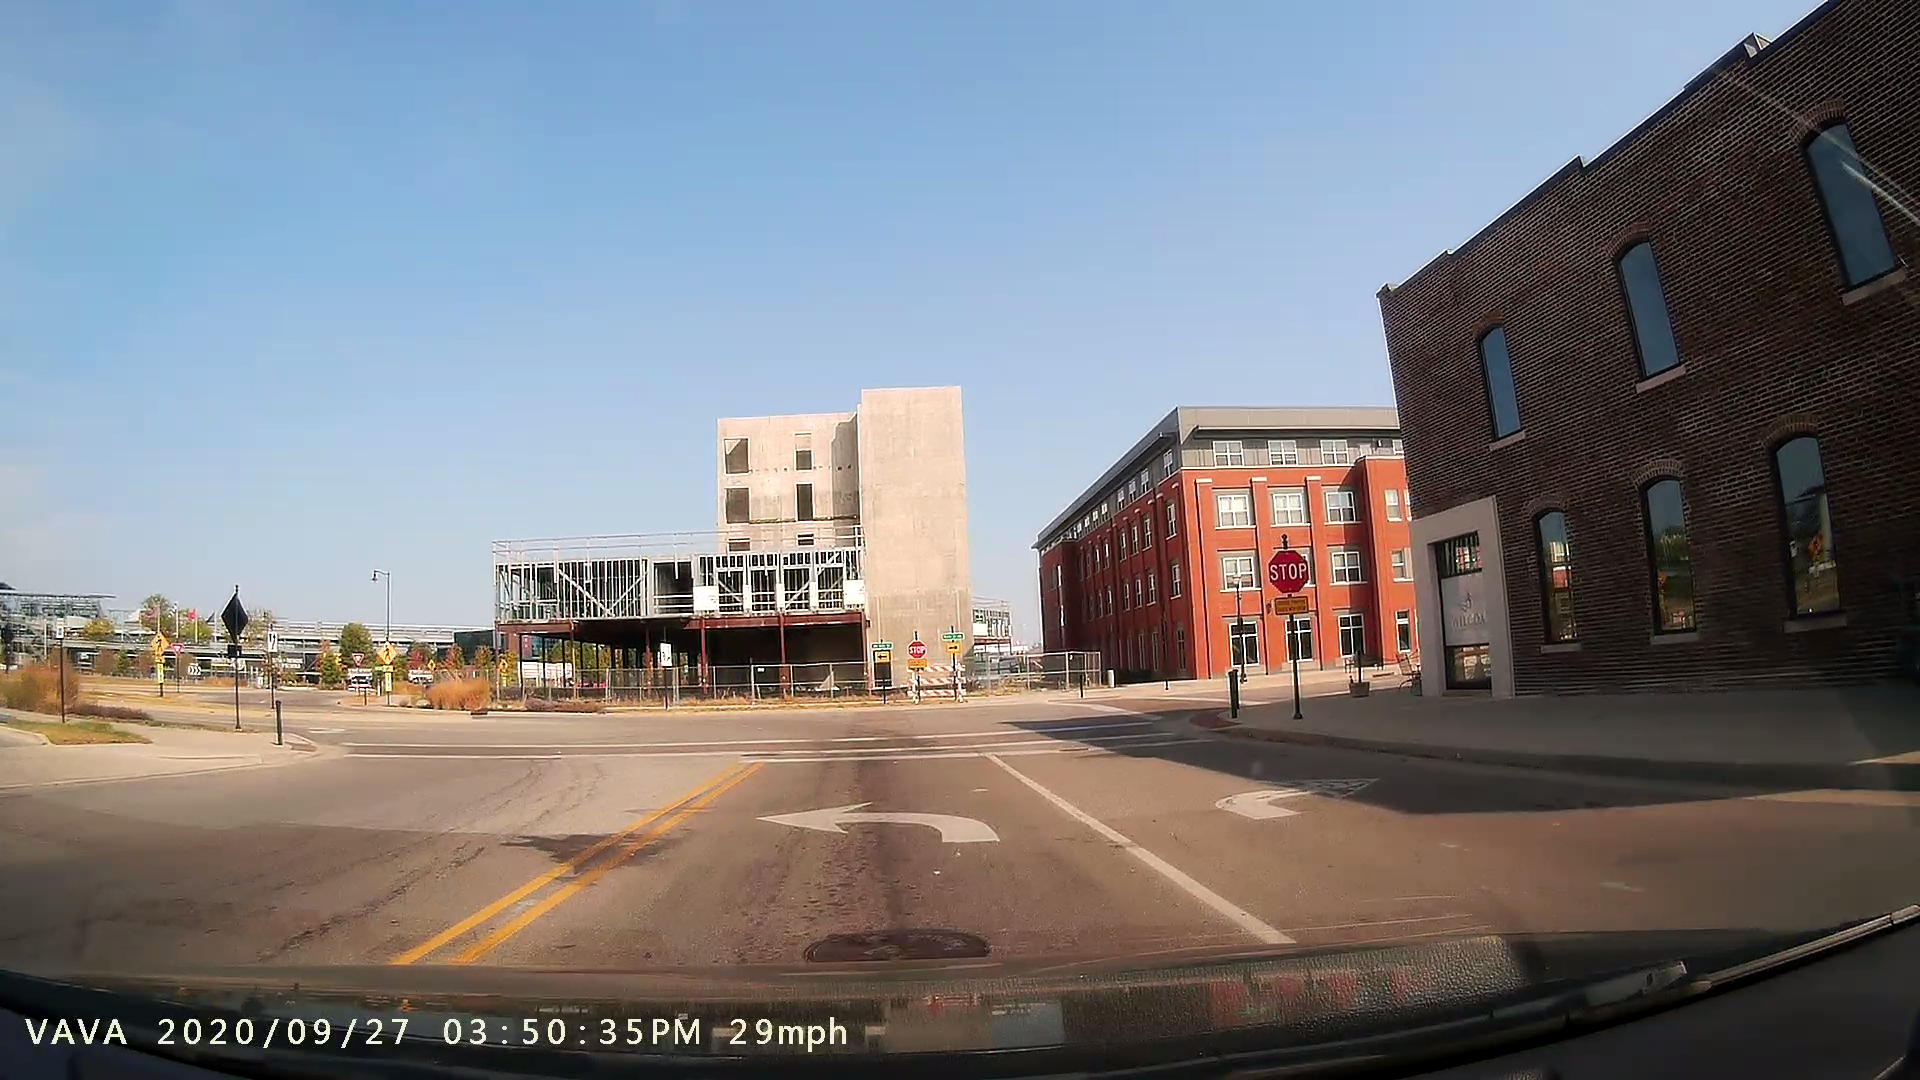left_turn: (754, 791, 1007, 865)
right_turn: (1209, 760, 1394, 833)
